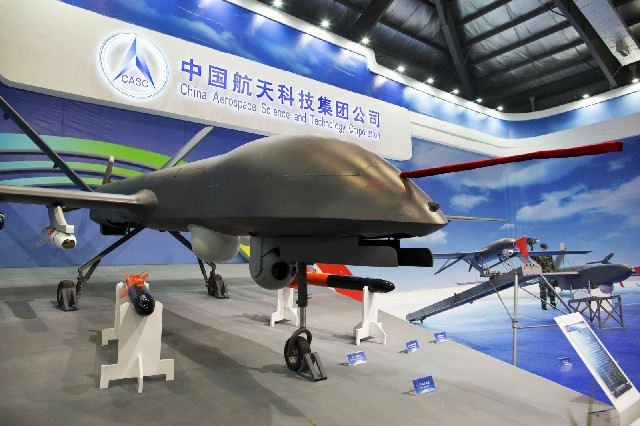maybay_khongnguoilai: (18, 111, 583, 313)
